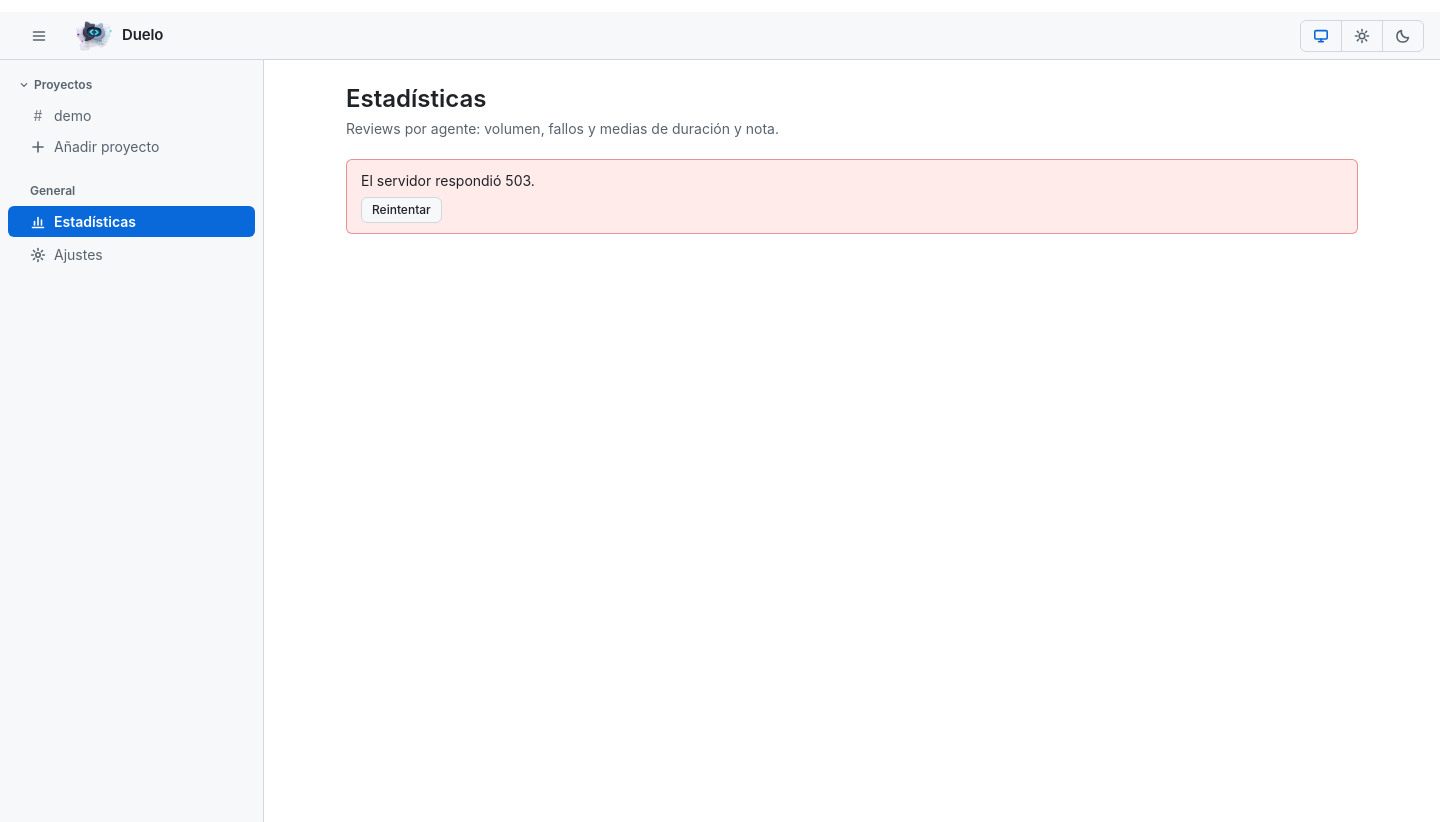
Test case: real stats › shows a recoverable error
Expected: the message shows "503", [361, 172, 535, 189]
Click the button "Reintentar". click: (401, 210)
box: [361, 197, 442, 223]
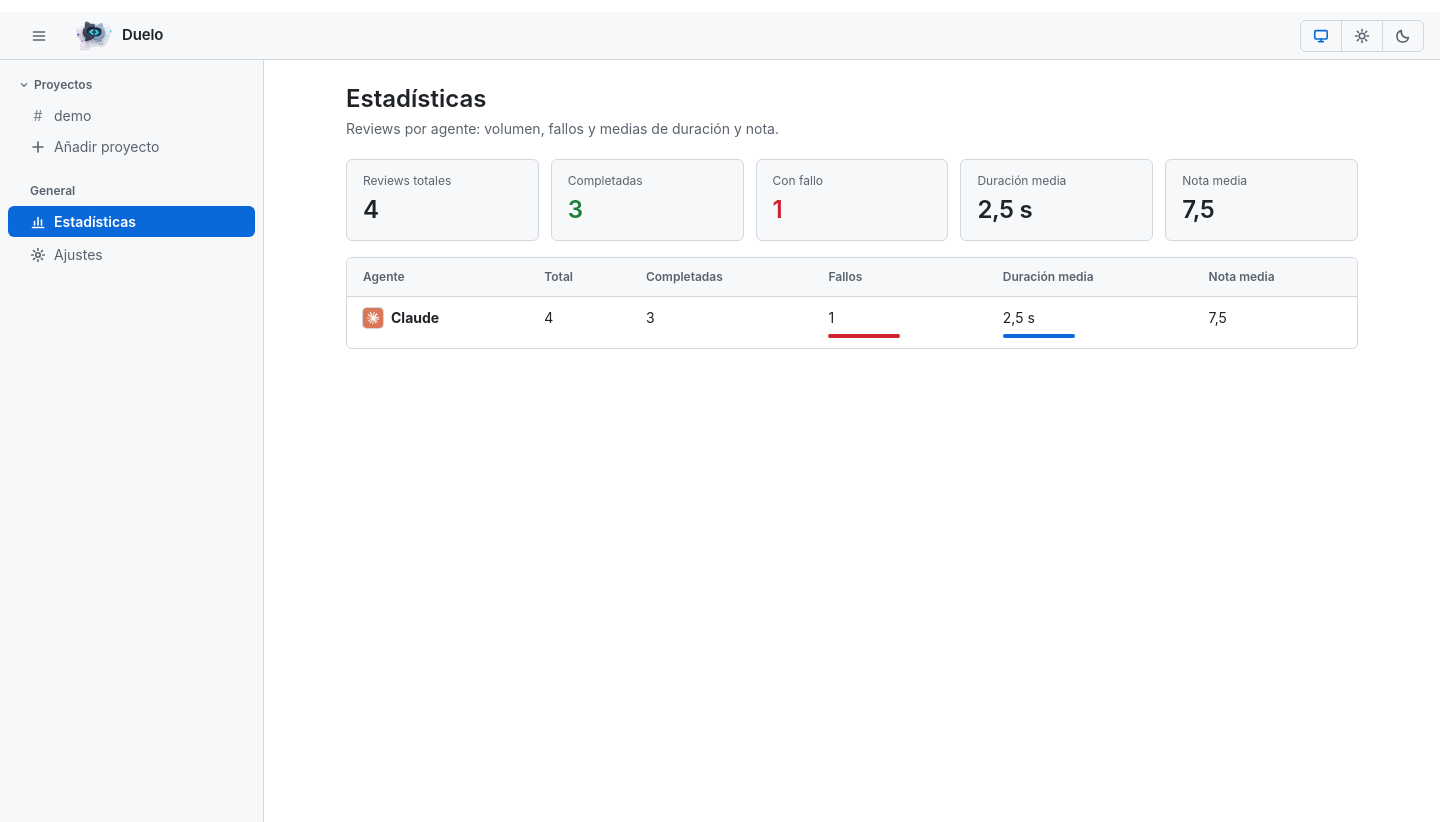
Expected: the row "Claude 4 3 1 2,5 s 7,5" is shown, [347, 297, 1357, 348]
Expected: the message "El servidor respondió 503. Reintentar" is gone
